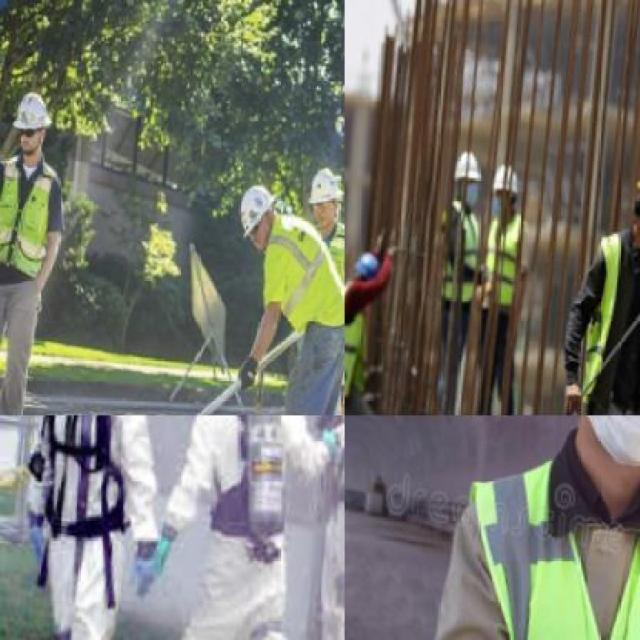Vest: (426, 432, 639, 638), (158, 416, 330, 638), (0, 416, 171, 638), (558, 218, 638, 414), (288, 416, 343, 638), (246, 212, 343, 336), (0, 149, 62, 280), (417, 197, 485, 309), (466, 206, 525, 309), (345, 274, 372, 414), (297, 215, 343, 297)
